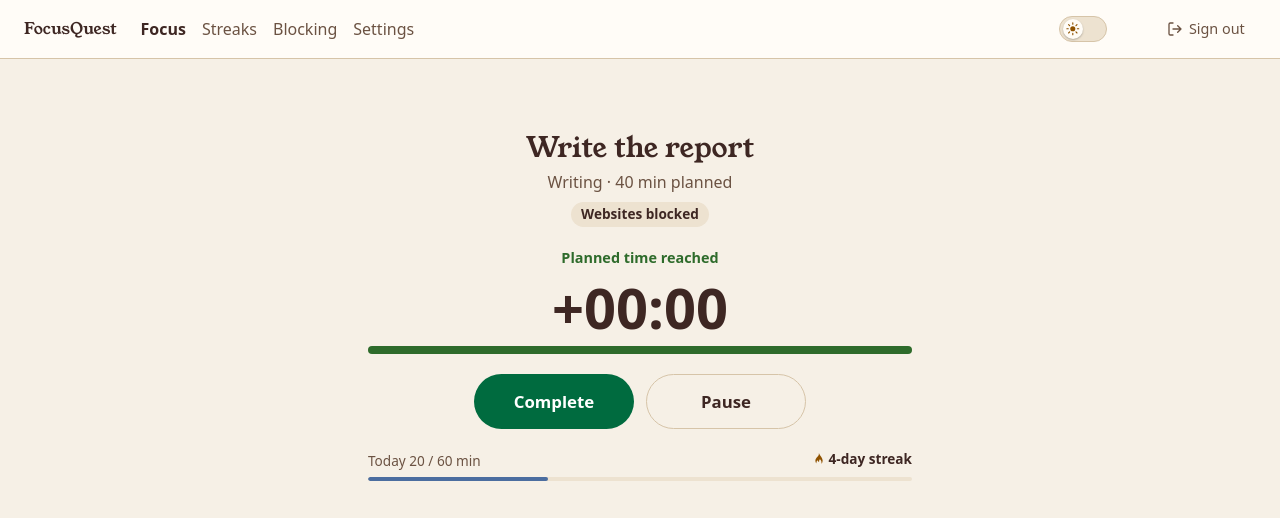
Test: DashboardView › names the moment a completion reaches today's target
The width and height of the screenshot is (1280, 518).
Click the button "Complete": coordinates (554, 401) 474,374 -> 634,428
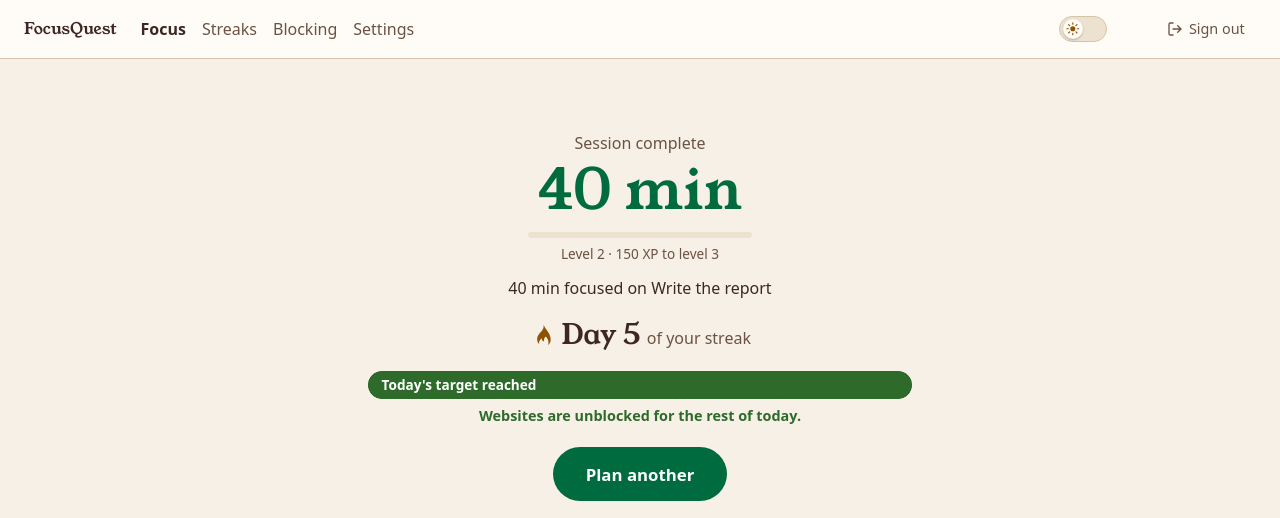
Now the text "Day 5 of your streak" is shown, box 529,320 -> 751,351
